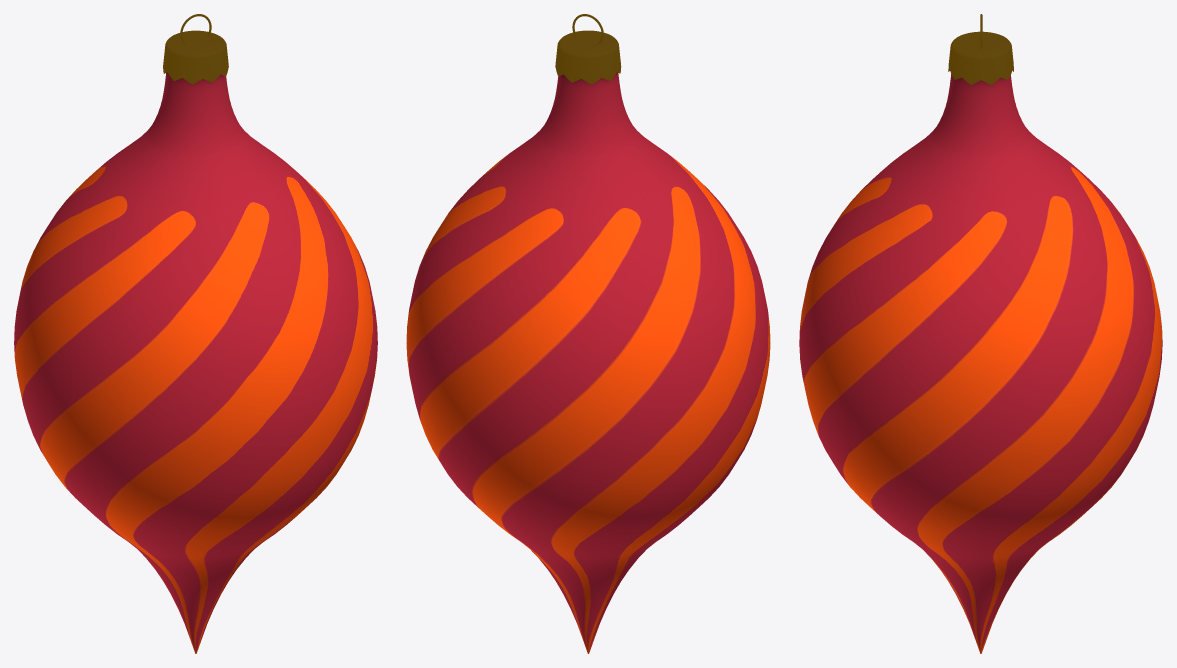
The model's file is RedOrnamentBlank.gltf.
3 views of the same model, side by side, from view 1: azimuth 30°, elevation 25°; view 2: azimuth 150°, elevation 25°; view 3: azimuth 270°, elevation 25° (orthographic).
Parts seen in each view (by area): view 1: ornament_2_blank.1; view 2: ornament_2_blank.1; view 3: ornament_2_blank.1.
Boxes of the visible parts, x1,y1,x2,y2 form: ornament_2_blank.1: (14,14,377,653); ornament_2_blank.1: (406,14,770,653); ornament_2_blank.1: (799,14,1162,653).
Size of the model in its own units: 0.0431 by 0.0835 by 0.0431.
1 material, 1 textured.
